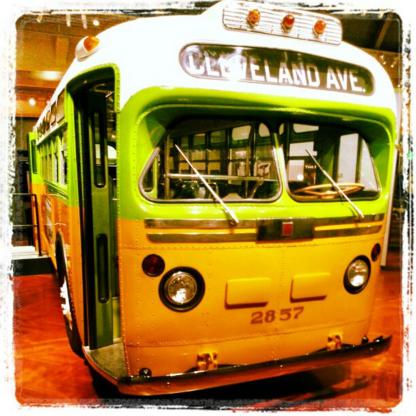Bus: (26, 0, 398, 397)
